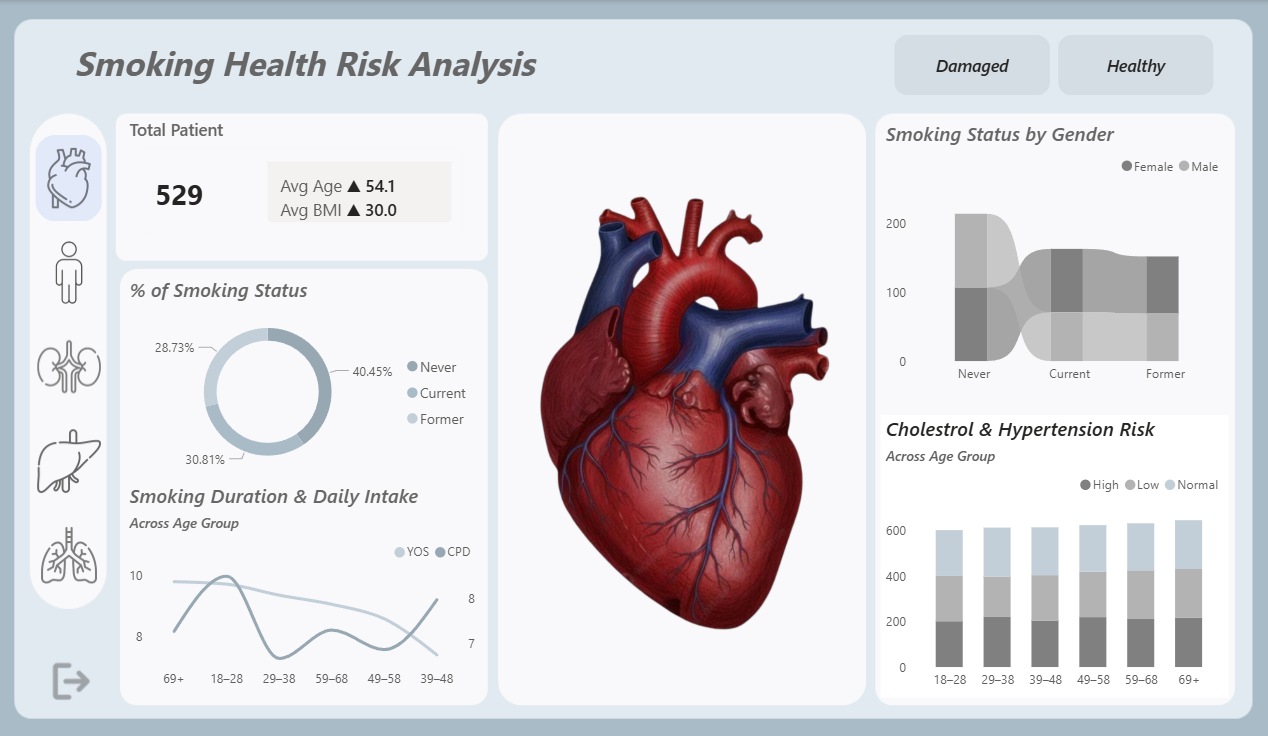

The page's visual inventory and layout, read from the dashboard file:
{"tool":"powerbi","page":{"name":"Smoke Health","canvas":[1280,720],"ordinal":0},"visuals":[{"type":"cardVisual","fields":{"Data":["CountNonNull(Health Dataset.Patient_ID)"]},"box":[145.7,125.7,344.3,117.1],"z":0},{"type":"textbox","box":[145.7,108.6,145.7,34.3],"z":1000},{"type":"advancedSlicerVisual","fields":{"Values":["Organs.Organ"]},"box":[55.7,125.7,74.3,458.6],"z":2000},{"type":"image","box":[517.1,125.7,334.3,547.1],"z":3000},{"type":"donutChart","title":"% of Smoking Status ","fields":{"Category":["Health Dataset.Smoking_Status"],"Y":["CountNonNull(Health Dataset.Smoking_Status)"]},"box":[145.7,267.1,344.3,198.6],"z":4000},{"type":"lineChart","title":"Smoking Duration & Daily Intake","fields":{"Category":["Health Dataset.Age Group"],"Y2":["Avg(Health Dataset.Cigarettes_Per_Day)"],"Y":["Avg(Health Dataset.Years_of_Smoking)"]},"box":[145.7,465.7,344.3,207.1],"z":5000},{"type":"advancedSlicerVisual","fields":{"Values":["Condition.Organ_Condition"]},"box":[884.3,28.6,318.6,68.6],"z":6000},{"type":"ribbonChart","title":"Smoking Status by Gender","fields":{"Category":["Health Dataset.Smoking_Status"],"Y":["CountNonNull(Health Dataset.Patient_ID)"],"Series":["Health Dataset.Gender"]},"box":[875.7,115.7,335.7,262.9],"z":7000},{"type":"columnChart","title":"Cholestrol & Hypertension Risk","fields":{"Category":["Health Dataset.Age Group"],"Y":["Avg(Health Dataset.Cholesterol_Level)"],"Series":["Health Dataset.BP_Risk"]},"box":[875.7,400,335.7,272.9],"z":8000},{"type":"textbox","box":[92.9,34.3,577.1,62.9],"z":9000}]}

Visuals, with their boxes on the page's 1280x720 design canvas (x1, y1, x2, y2). These are canvas units, not pixel positions in the 1268x736 screenshot, which may show the page scaled, cropped or inside an application window:
cardVisual - CountNonNull(Health Dataset.Patient_ID): <box>146,126,490,243</box>
textbox: <box>146,109,291,143</box>
advancedSlicerVisual - Organs.Organ: <box>56,126,130,584</box>
image: <box>517,126,851,673</box>
"% of Smoking Status " donutChart: <box>146,267,490,466</box>
"Smoking Duration & Daily Intake" lineChart: <box>146,466,490,673</box>
advancedSlicerVisual - Condition.Organ_Condition: <box>884,29,1203,97</box>
"Smoking Status by Gender" ribbonChart: <box>876,116,1211,379</box>
"Cholestrol & Hypertension Risk" columnChart: <box>876,400,1211,673</box>
textbox: <box>93,34,670,97</box>
